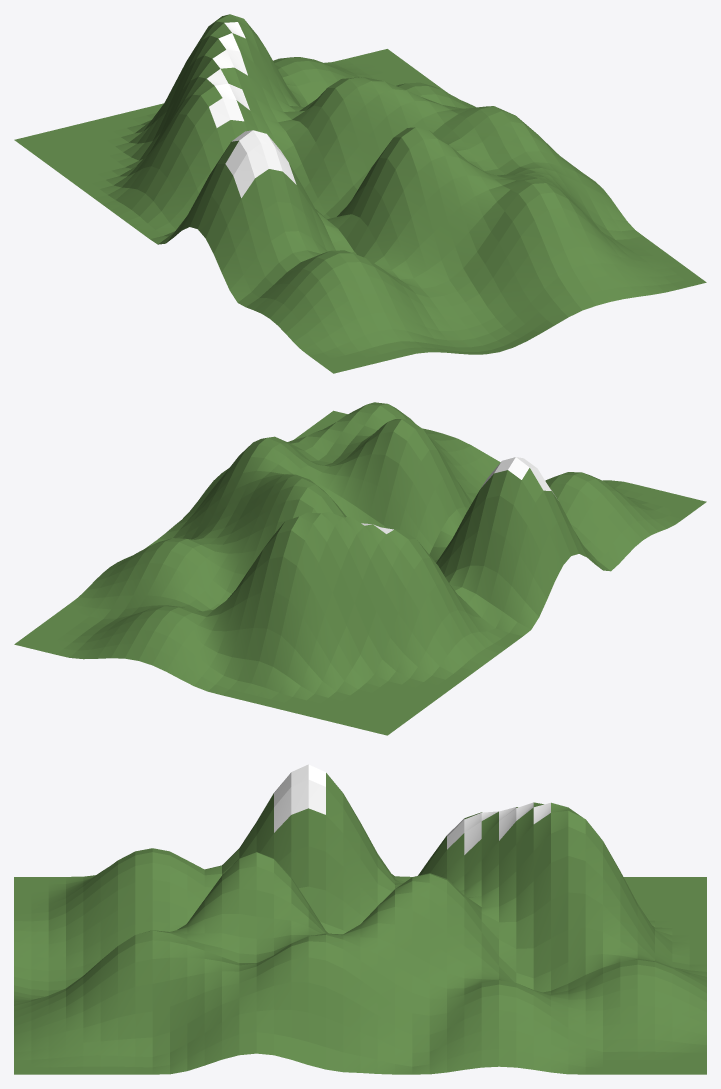
Rendered from hill.obj.
The picture shows the model from 3 angles, top to bottom: view 1: azimuth 30°, elevation 25°; view 2: azimuth 150°, elevation 25°; view 3: azimuth 270°, elevation 25°; orthographic projection. The views are drawn at different scales.
Visible parts, largest first — view 1: Mesh1 Model; view 2: Mesh1 Model; view 3: Mesh1 Model.
Part boxes in pixels (<box>): Mesh1 Model: <box>14,14,706,373</box>; Mesh1 Model: <box>14,402,706,735</box>; Mesh1 Model: <box>14,764,706,1074</box>.
Bounding box in the file's own units: 40.5 × 16.56 × 60.
